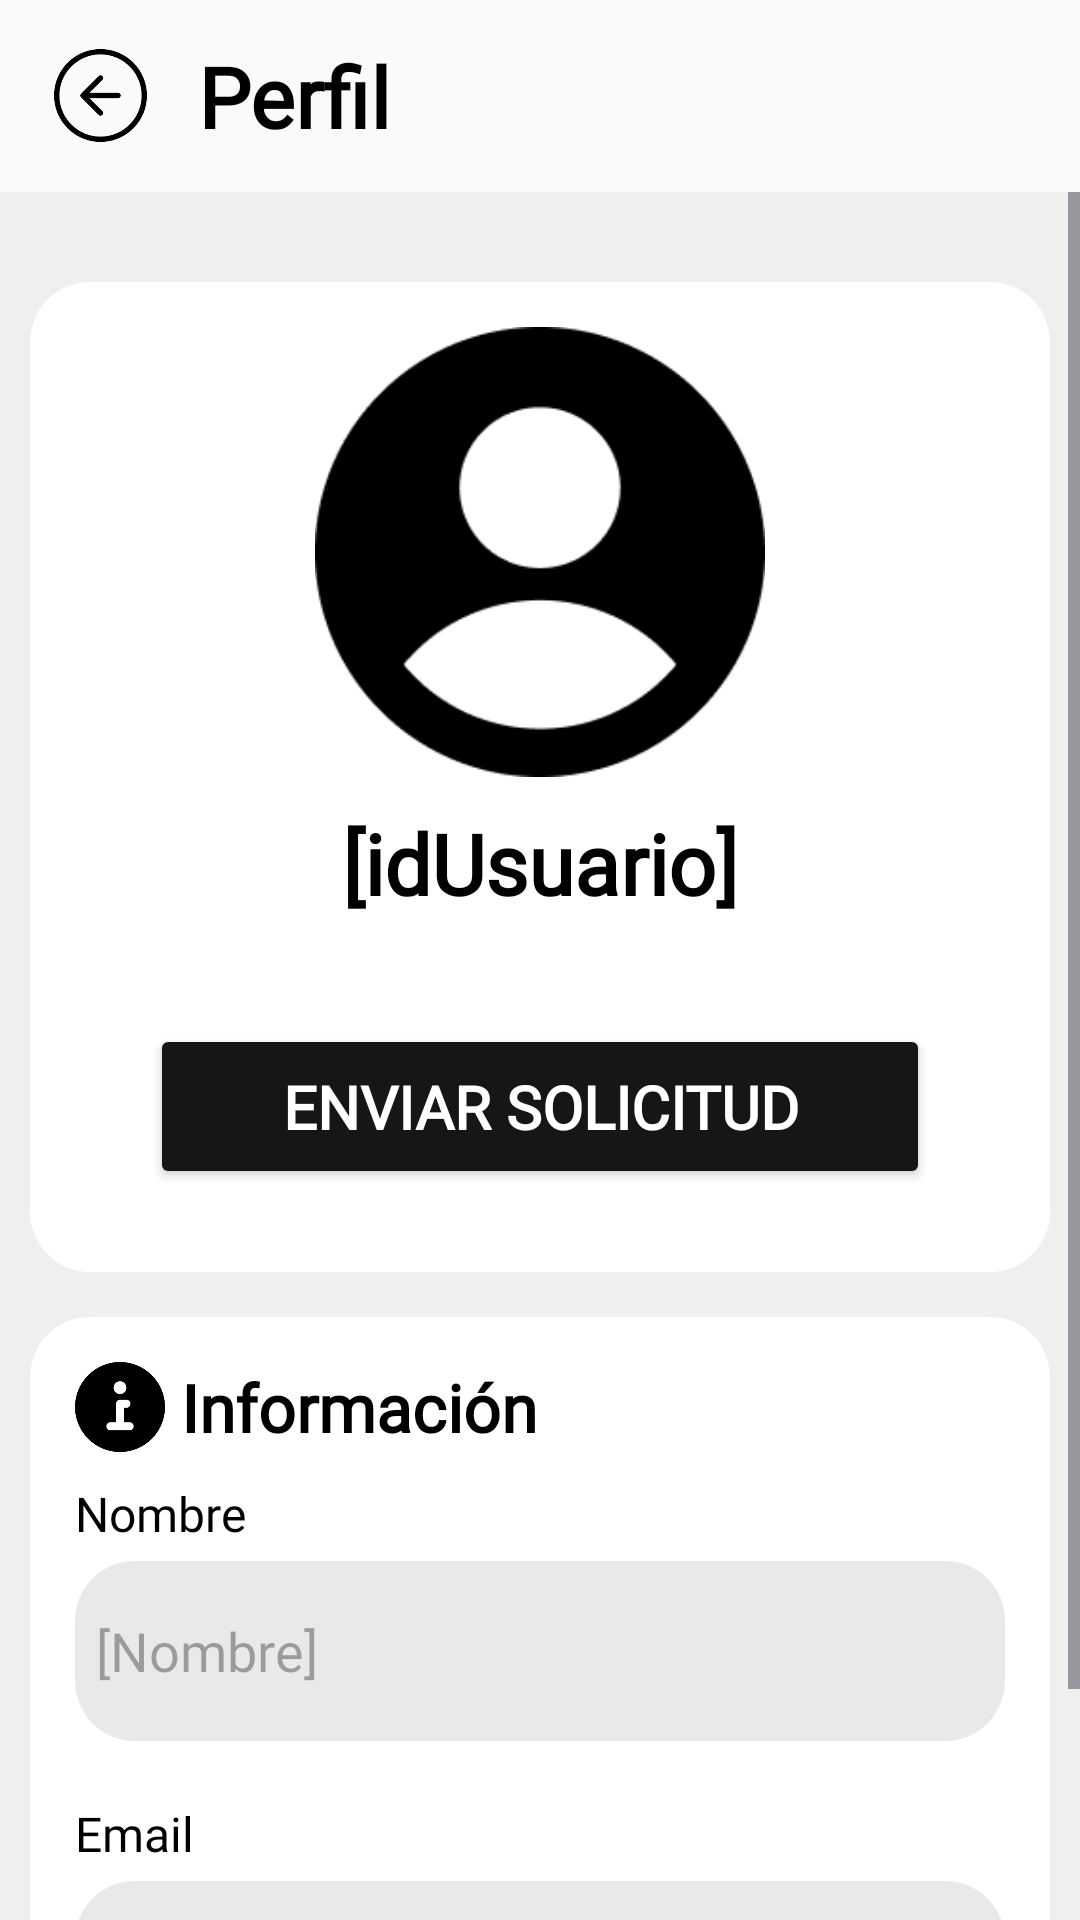

Icons on this 1080w x 1920h Android screen, each with its box as detection(x1, y1, x2, y2):
Boton para volver atrás: detection(54, 49, 147, 142)
